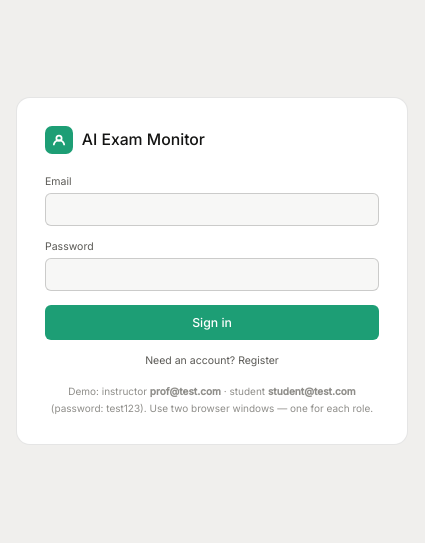
Login › reveals name/role fields when switching to register mode
The width and height of the screenshot is (425, 543).
Click the button "Need an account? Register" at {"x": 212, "y": 361}, box [45,354,379,368]
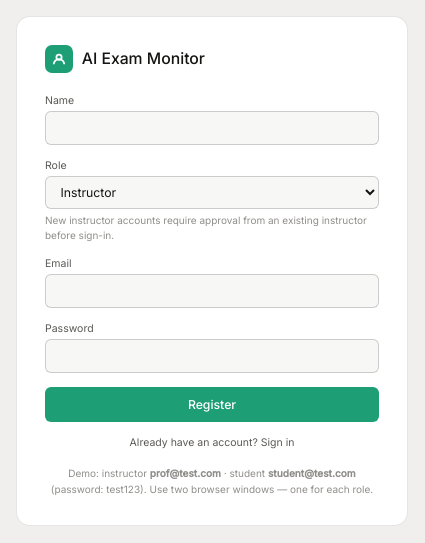
Result: the text "Name" is shown at [45,94,74,107]
Result: the text "Role" is shown at [45,159,67,172]
Result: the button "Register" is shown at [45,387,379,422]
